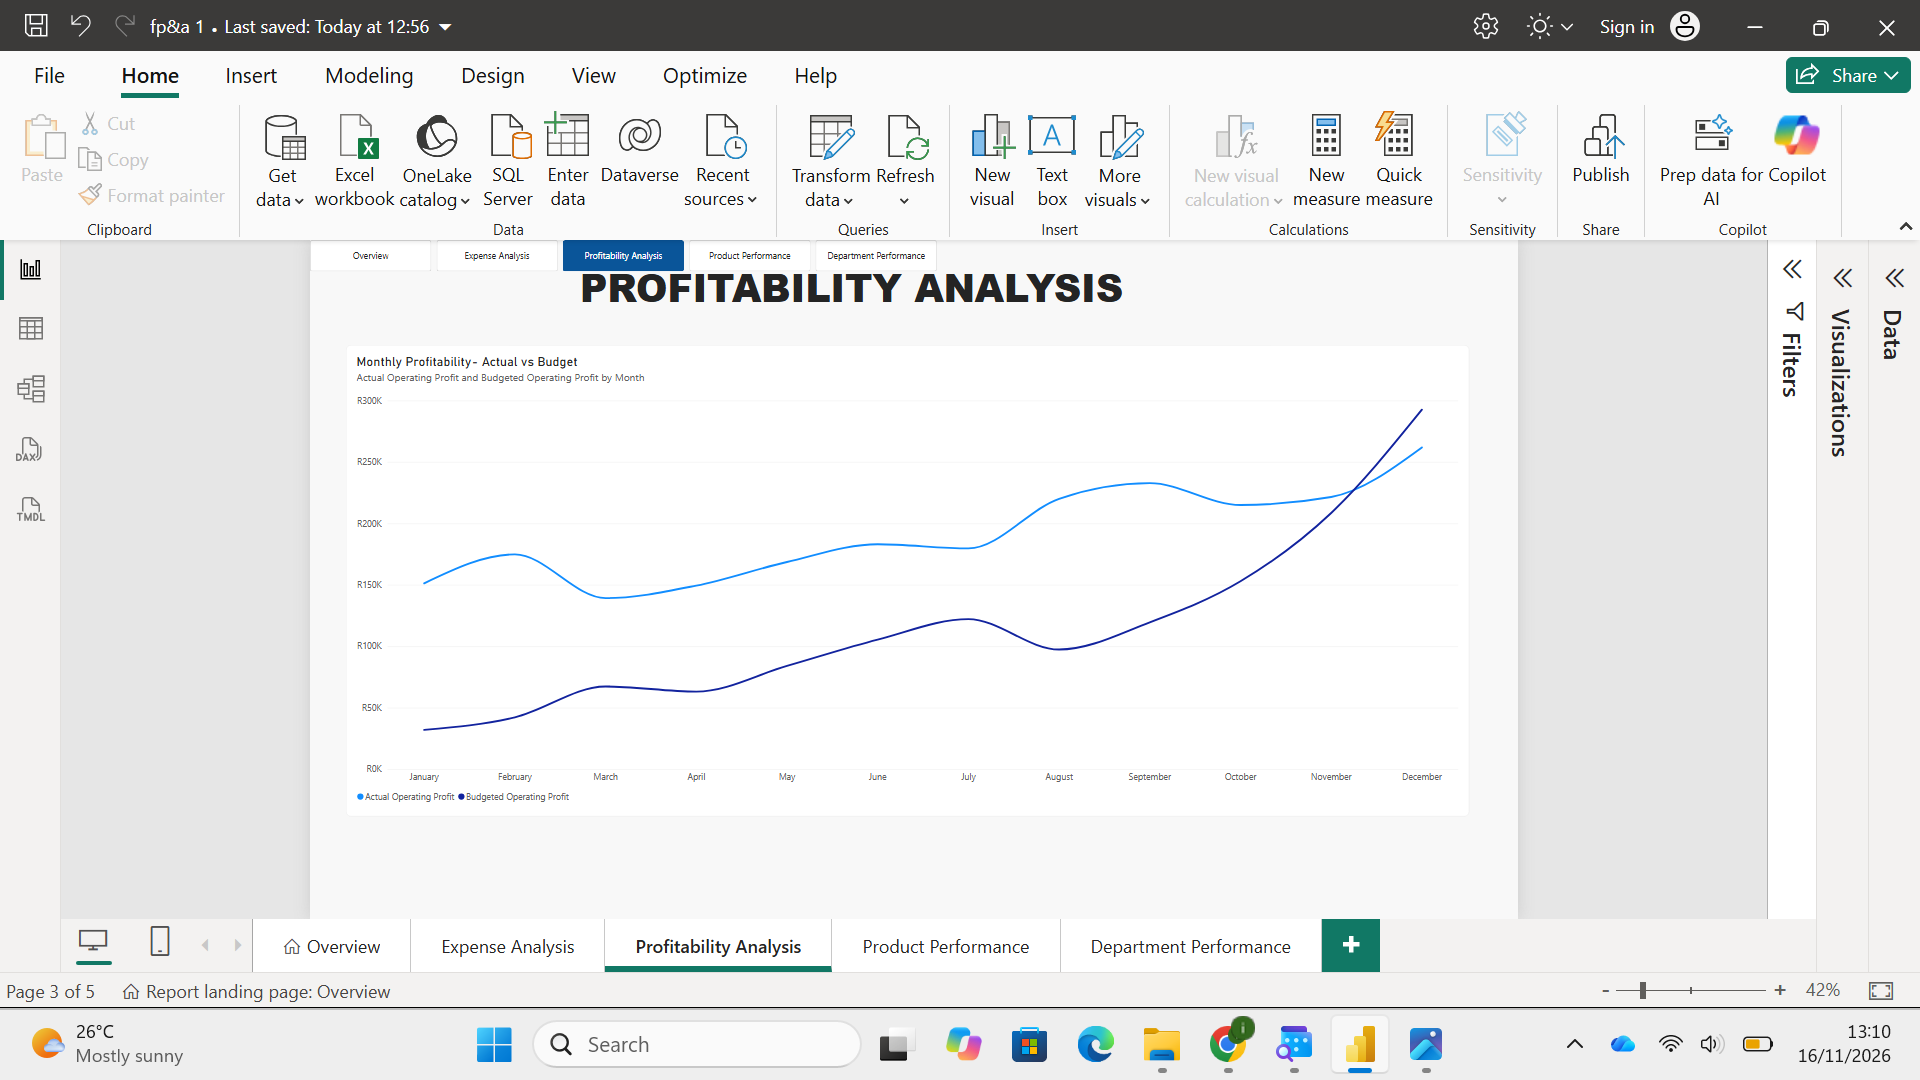

Layout of this report page (visuals, bound fields, positions):
{"tool":"powerbi","page":{"name":"Profitability Analysis","canvas":[1920,1080],"ordinal":2},"visuals":[{"type":"lineChart","title":"Monthly Profitability- Actual vs Budget","fields":{"Category":["DateTable.Date.Variation.Date Hierarchy.Month"],"Y":["DateTable.Actual Operating Profit","DateTable.Budgeted Operating Profit"]},"box":[56.8,165.9,1786.4,750],"z":1},{"type":"textbox","box":[20.5,261.4,454.5,450],"z":2},{"type":"textbox","box":[100,100,300,300],"z":3},{"type":"textbox","title":"PROFITABILITY ANALYSIS","box":[20.5,34.1,1679.5,65.9],"z":4},{"type":"pageNavigator","box":[0,0,1000,50],"z":5}]}

Visuals, with their boxes on the page's 1920x1080 design canvas (x1, y1, x2, y2). These are canvas units, not pixel positions in the 1920x1080 screenshot, which may show the page scaled, cropped or inside an application window:
"Monthly Profitability- Actual vs Budget" lineChart: 57/166/1843/916
textbox: 20/261/475/711
textbox: 100/100/400/400
"PROFITABILITY ANALYSIS" textbox: 20/34/1700/100
pageNavigator: 0/0/1000/50
